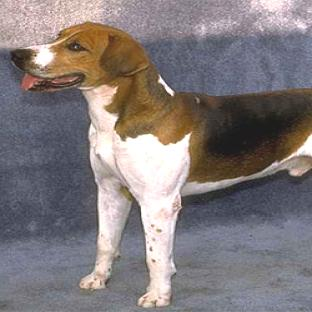Animal: (12, 22, 312, 306)
